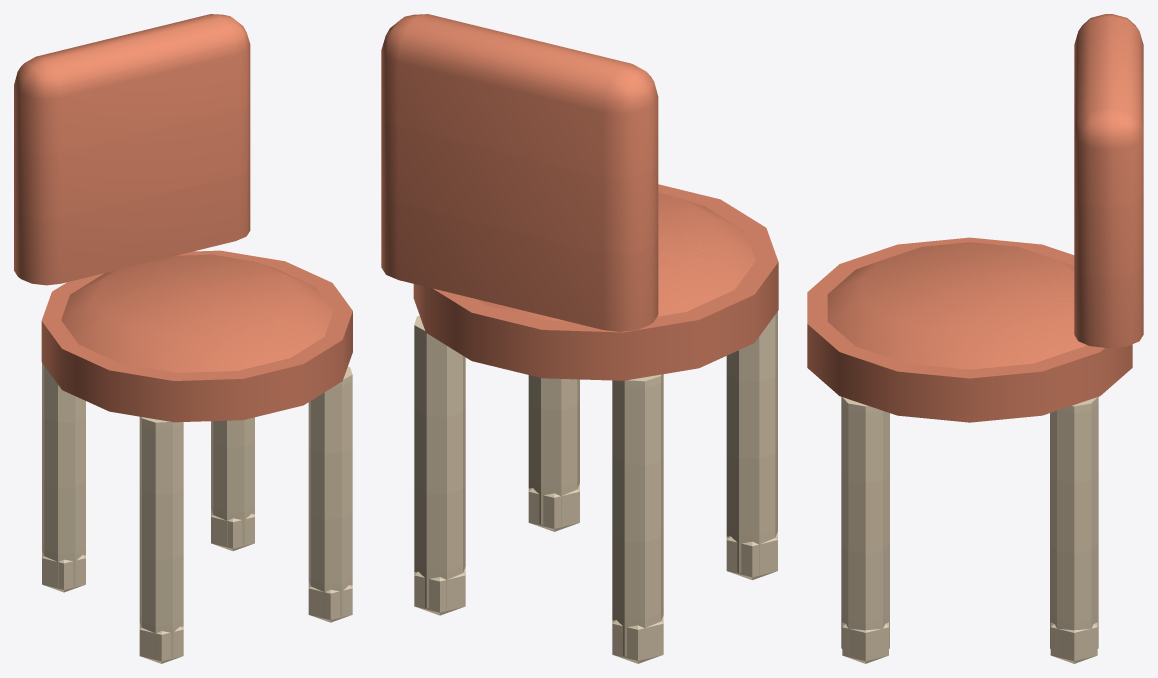
Rendered from cafe_chair.glb.
3 views of the same model, side by side, from view 1: azimuth 30°, elevation 25°; view 2: azimuth 150°, elevation 25°; view 3: azimuth 270°, elevation 25° (orthographic). The views are drawn at different scales.
Visible parts, largest first — view 1: cafe_chair; view 2: cafe_chair; view 3: cafe_chair.
Part boxes in pixels (bbox=[...]): cafe_chair: bbox=[14, 14, 352, 663]; cafe_chair: bbox=[381, 14, 778, 663]; cafe_chair: bbox=[807, 14, 1143, 663].
Size of the model in its own units: 0.48 by 0.885 by 0.484.
Materials: 1 (1 with a texture image).
